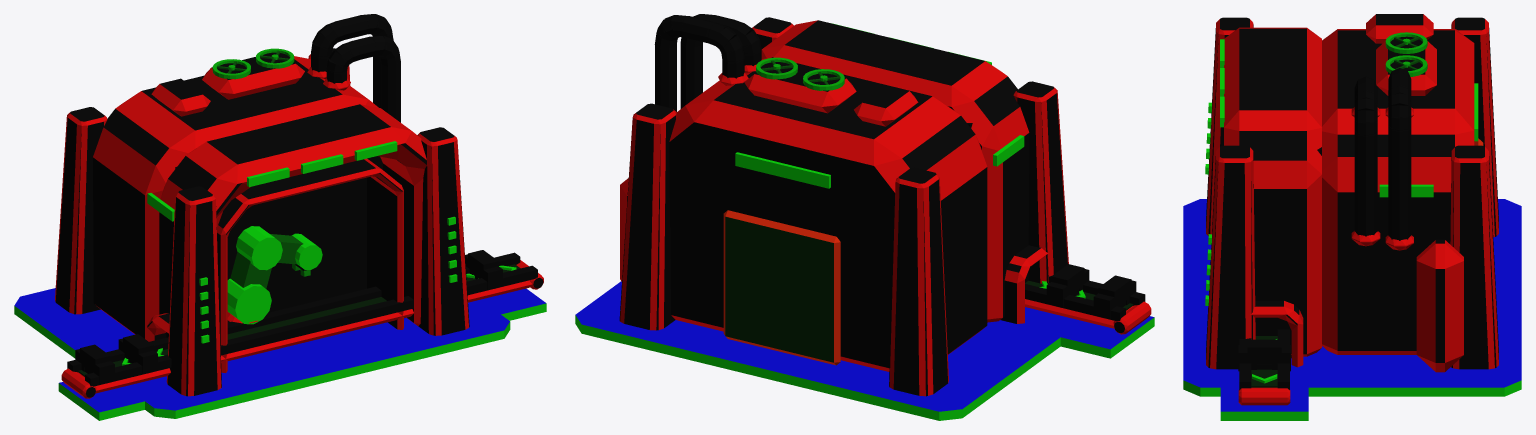
File: SM_Holo_Assembler_T2_Mini.fbx
The picture shows the model from 3 angles, left to right: view 1: azimuth 30°, elevation 25°; view 2: azimuth 150°, elevation 25°; view 3: azimuth 270°, elevation 25°; orthographic projection. The views are drawn at different scales.
Visible parts, largest first — view 1: SM_Holo_Assembler_T2_Mini; view 2: SM_Holo_Assembler_T2_Mini; view 3: SM_Holo_Assembler_T2_Mini.
Boxes of the visible parts, x1,y1,x2,y2 form: SM_Holo_Assembler_T2_Mini: (14,14,546,420); SM_Holo_Assembler_T2_Mini: (575,14,1154,420); SM_Holo_Assembler_T2_Mini: (1183,14,1521,420).
Bounding box in the file's own units: 17.11 × 9.27 × 10.
